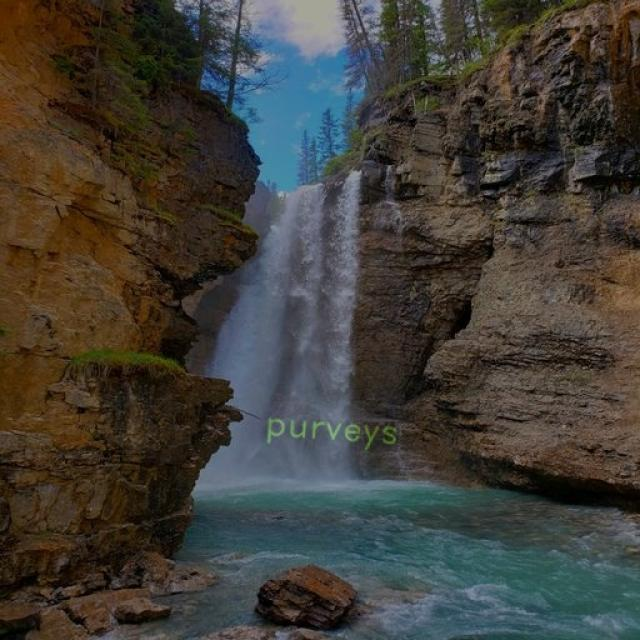watermark: (255, 408, 422, 450)
